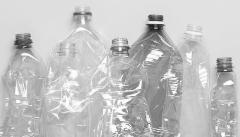plastic: (175, 23, 213, 136), (210, 57, 238, 137)
